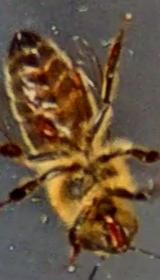varroa_mite: (30, 112, 64, 144)
